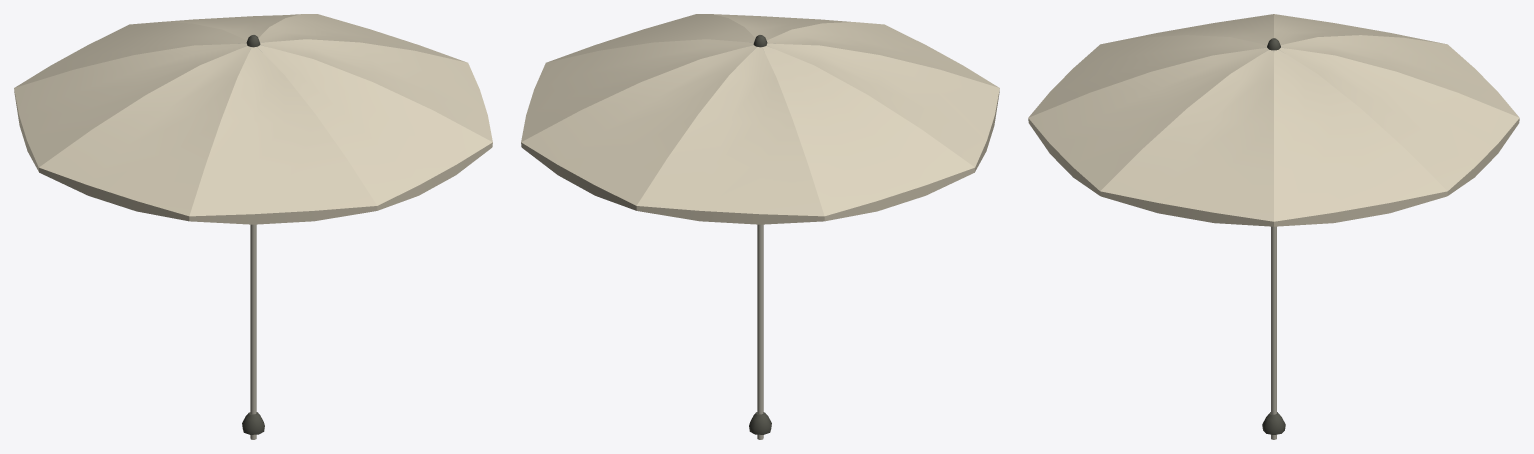
The model's file is BeachParasol-lod.glb.
The picture shows the model from 3 angles, left to right: view 1: azimuth 30°, elevation 25°; view 2: azimuth 150°, elevation 25°; view 3: azimuth 270°, elevation 25°; orthographic projection.
Visible parts, largest first — view 1: BeachParasol_Canopy, BeachParasol_Frame, BeachParasol_Hardware; view 2: BeachParasol_Canopy, BeachParasol_Frame, BeachParasol_Hardware; view 3: BeachParasol_Canopy, BeachParasol_Frame, BeachParasol_Hardware.
Part boxes in pixels (x1,y1,x2,y2): BeachParasol_Canopy: (14, 14, 492, 224); BeachParasol_Frame: (238, 42, 265, 439); BeachParasol_Hardware: (242, 35, 264, 434); BeachParasol_Canopy: (521, 14, 999, 224); BeachParasol_Frame: (748, 42, 775, 439); BeachParasol_Hardware: (749, 35, 771, 434); BeachParasol_Canopy: (1028, 14, 1519, 226); BeachParasol_Frame: (1260, 44, 1287, 439); BeachParasol_Hardware: (1262, 38, 1285, 434).
Bounding box in the file's own units: 3 × 2.69 × 3.
